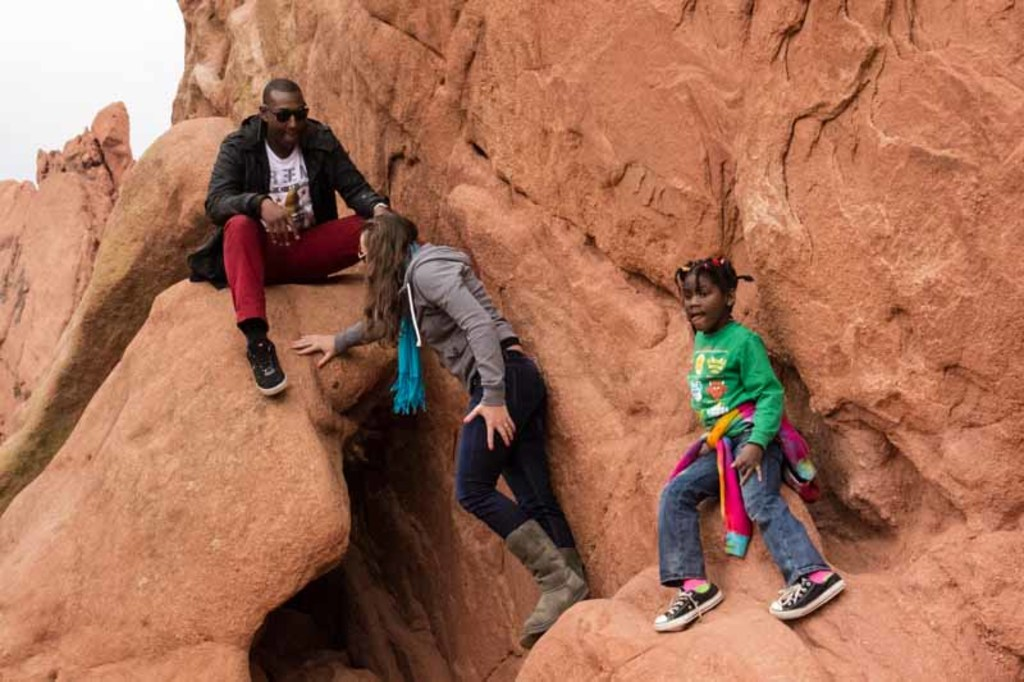Person: (653, 254, 847, 632), (185, 78, 393, 395)
